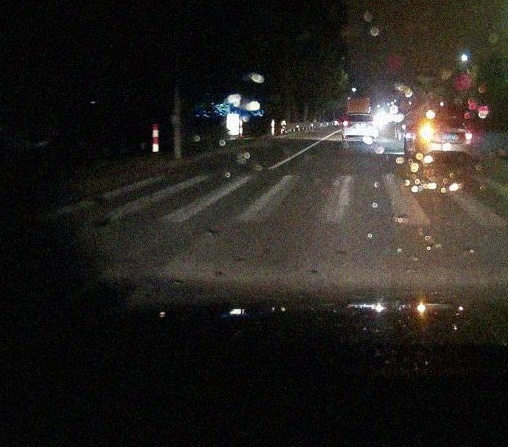L_light: (421, 132, 433, 140), (343, 121, 348, 127)
R_light: (465, 131, 472, 140), (372, 122, 378, 127)
T_light: (441, 121, 451, 123), (357, 115, 364, 116)
night-left: (420, 117, 472, 163)
night-no: (343, 112, 378, 146)
